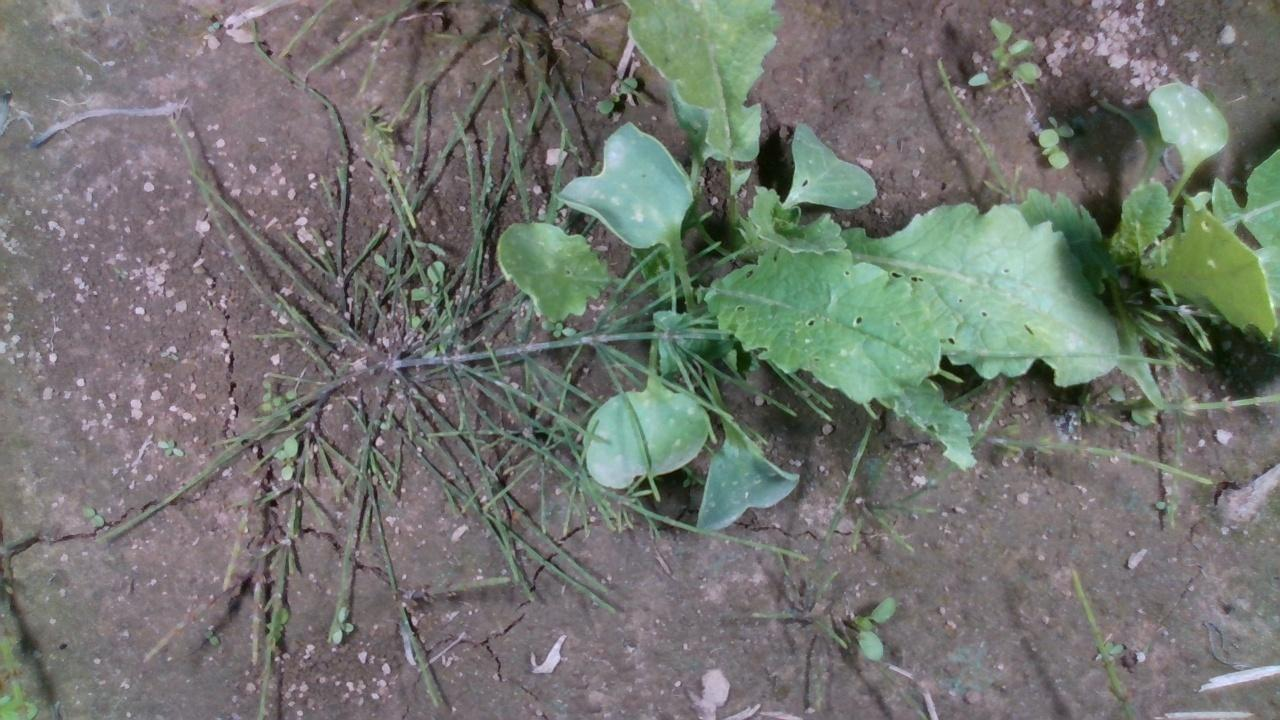weed: (81, 505, 105, 526), (201, 626, 221, 646)
